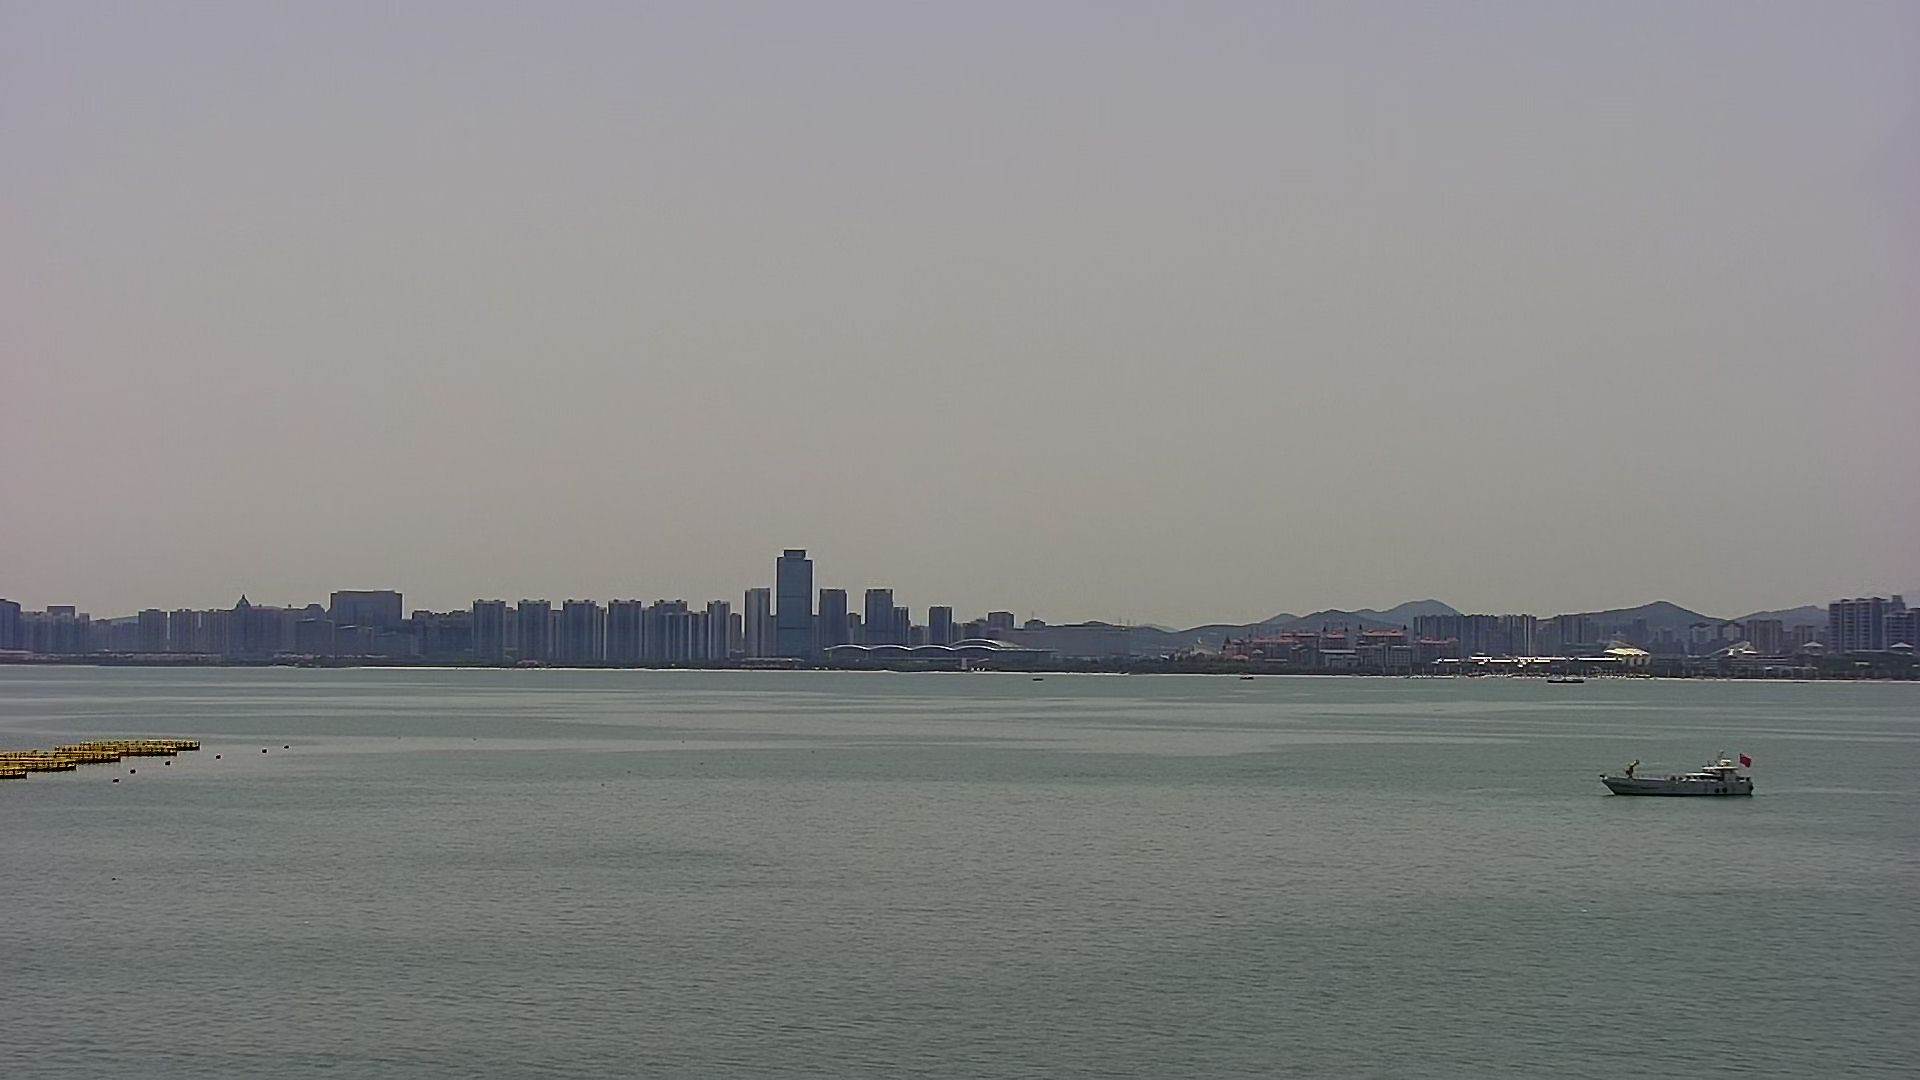platform: (1, 732, 203, 782)
ship: (1596, 746, 1756, 800)
